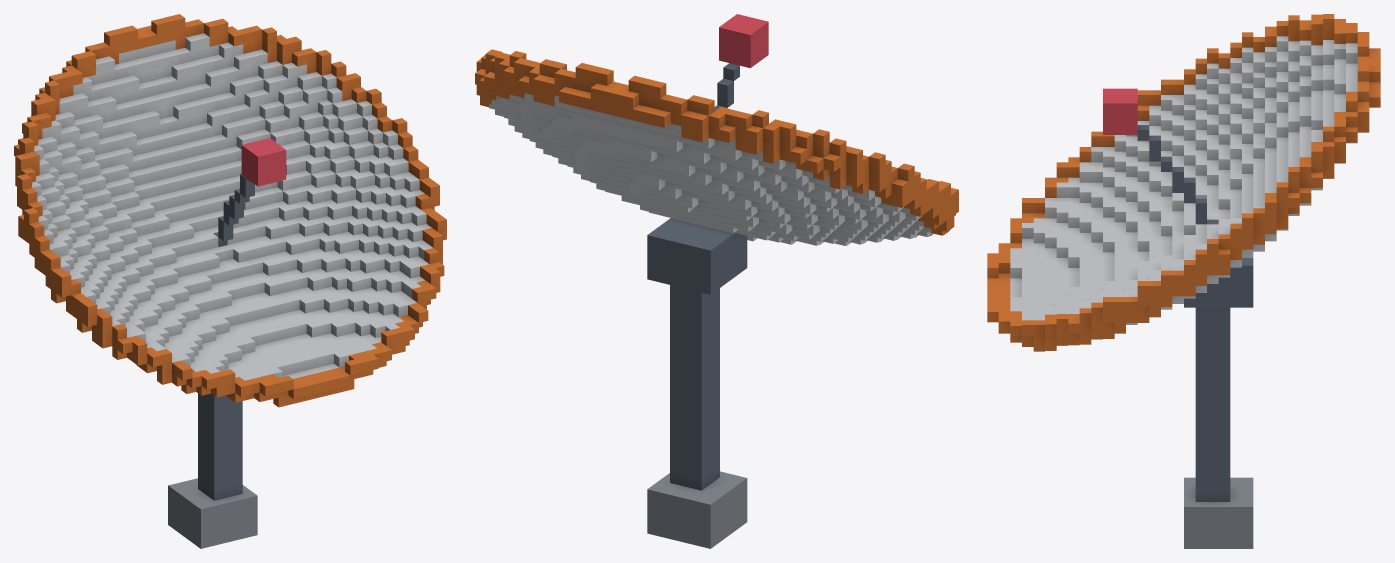
File: dish_l.glb
3 renders of one model, left to right at view 1: azimuth 30°, elevation 25°; view 2: azimuth 150°, elevation 25°; view 3: azimuth 270°, elevation 25°, orthographic. The views are drawn at different scales.
Visible parts, largest first — view 1: Base; view 2: Base; view 3: Base.
Boxes of the visible parts, box(x1,y1,x2,y2) form: Base: box(14, 14, 446, 548); Base: box(475, 14, 958, 548); Base: box(987, 14, 1380, 548).
Bounding box in the file's own units: 4 × 4.6 × 3.4.
